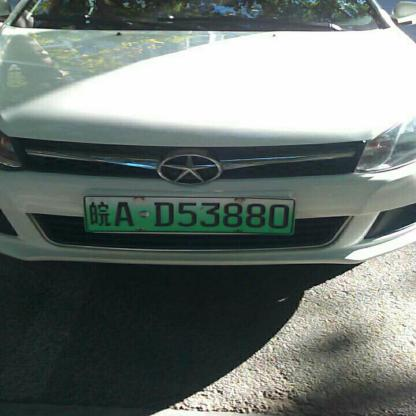lp: (82, 196, 294, 234)
